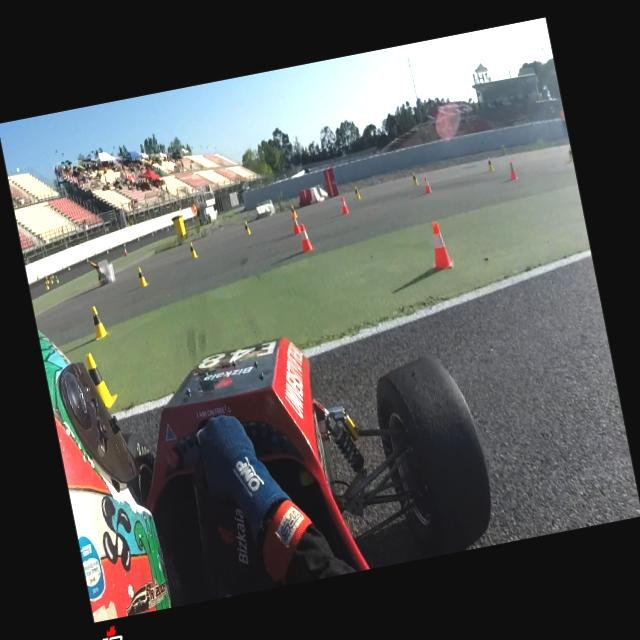orange_cone: (424, 221, 454, 271), (297, 222, 314, 252), (290, 213, 300, 234), (422, 176, 433, 194), (508, 161, 518, 180), (340, 196, 350, 214), (124, 248, 128, 257)
yellow_cone: (85, 348, 120, 411), (88, 304, 110, 340), (136, 266, 150, 288), (188, 240, 199, 259), (244, 218, 252, 236), (354, 185, 362, 200), (486, 156, 494, 171), (290, 204, 298, 218), (567, 146, 574, 162), (412, 171, 419, 186), (44, 280, 50, 292), (55, 274, 60, 284), (50, 275, 54, 284)
